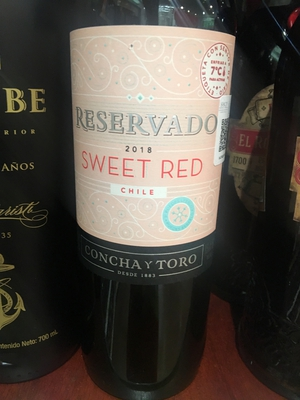reservado sweet red: (65, 4, 249, 377)
